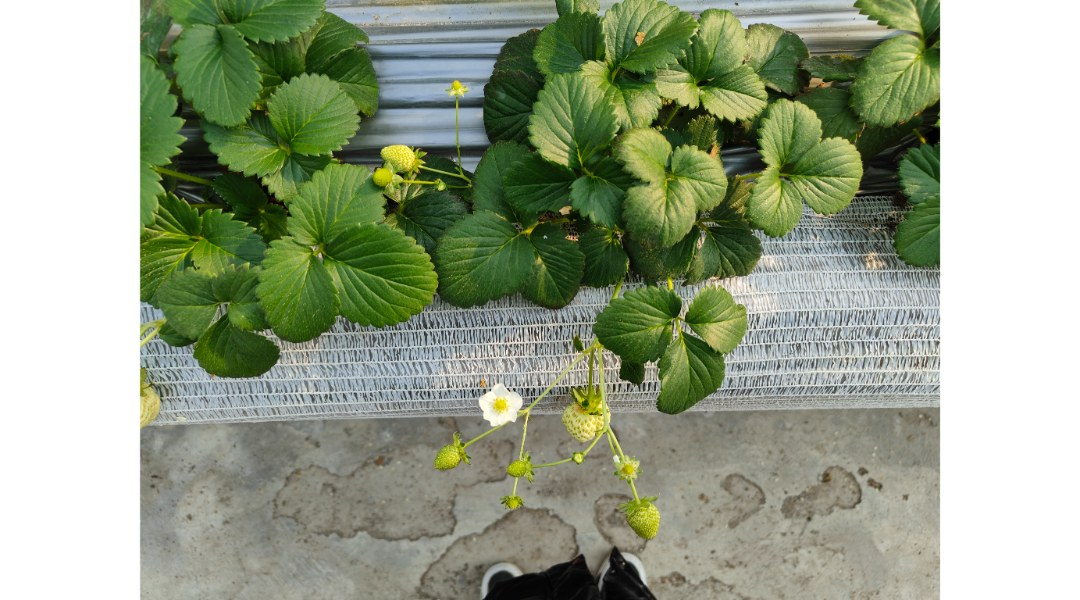berry: (561, 387, 619, 442), (616, 492, 668, 545), (423, 439, 470, 483), (606, 453, 647, 486), (507, 451, 542, 484), (494, 490, 527, 518), (565, 448, 587, 469)
flower: (469, 373, 528, 429)
strain: (533, 350, 587, 409), (597, 356, 612, 420), (581, 433, 603, 457), (465, 429, 492, 448), (532, 458, 571, 471), (520, 414, 531, 456), (510, 480, 520, 495)
